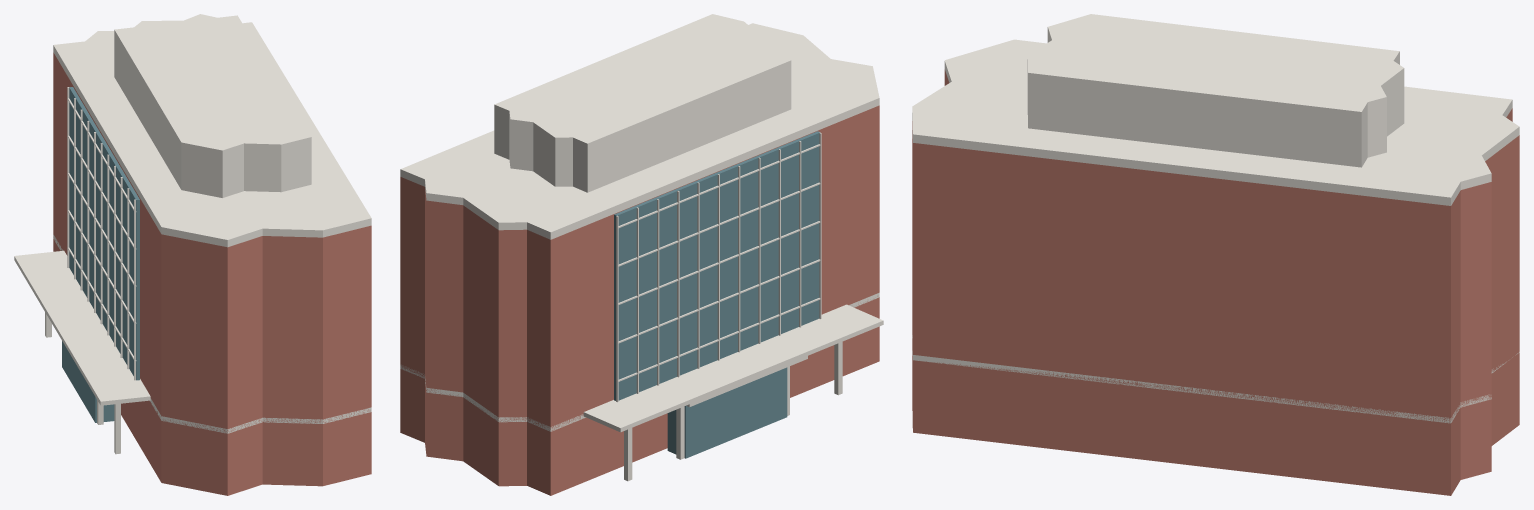
File: yip.glb
The picture shows the model from 3 angles, left to right: view 1: azimuth 30°, elevation 25°; view 2: azimuth 150°, elevation 25°; view 3: azimuth 270°, elevation 25°; orthographic projection. The views are drawn at different scales.
Parts seen in each view (by area): view 1: YKC_tower, YKC_roof_slab, YKC_roof, YKC_podium, YKC_curtain, YKC_penthouse, YKC_col_canopy, YKC_band, YKC_atrium, YKC_cw_mull_5, YKC_cw_mull_8, YKC_cw_mull_2 (+4 smaller); view 2: YKC_tower, YKC_curtain, YKC_roof_slab, YKC_roof, YKC_podium, YKC_penthouse, YKC_col_canopy, YKC_atrium, YKC_band, YKC_cw_mull_0, YKC_cw_transom_4, YKC_cw_transom_2 (+13 smaller); view 3: YKC_tower, YKC_podium, YKC_roof_slab, YKC_roof, YKC_penthouse, YKC_band.
Boxes of the visible parts, x1=… form: YKC_tower: x1=53, y1=52, x2=371, y2=433; YKC_roof_slab: x1=53, y1=22, x2=371, y2=247; YKC_roof: x1=114, y1=14, x2=311, y2=155; YKC_podium: x1=53, y1=239, x2=371, y2=495; YKC_curtain: x1=69, y1=87, x2=139, y2=380; YKC_penthouse: x1=114, y1=35, x2=311, y2=197; YKC_col_canopy: x1=14, y1=250, x2=150, y2=405; YKC_band: x1=53, y1=235, x2=371, y2=433; YKC_atrium: x1=62, y1=341, x2=114, y2=422; YKC_cw_mull_5: x1=100, y1=143, x2=102, y2=324; YKC_cw_mull_8: x1=120, y1=177, x2=122, y2=357; YKC_cw_mull_2: x1=80, y1=109, x2=82, y2=290; YKC_tower: x1=400, y1=105, x2=879, y2=431; YKC_curtain: x1=614, y1=131, x2=820, y2=400; YKC_roof_slab: x1=400, y1=23, x2=879, y2=239; YKC_roof: x1=494, y1=14, x2=791, y2=148; YKC_podium: x1=400, y1=297, x2=879, y2=495; YKC_penthouse: x1=494, y1=66, x2=791, y2=192; YKC_col_canopy: x1=583, y1=304, x2=883, y2=432; YKC_atrium: x1=667, y1=367, x2=787, y2=458; YKC_band: x1=400, y1=292, x2=879, y2=431; YKC_cw_mull_0: x1=616, y1=215, x2=618, y2=402; YKC_cw_transom_4: x1=618, y1=144, x2=820, y2=227; YKC_cw_transom_2: x1=618, y1=221, x2=820, y2=304; YKC_tower: x1=912, y1=69, x2=1519, y2=422; YKC_podium: x1=912, y1=338, x2=1519, y2=495; YKC_roof_slab: x1=912, y1=39, x2=1519, y2=205; YKC_roof: x1=1027, y1=14, x2=1404, y2=117; YKC_penthouse: x1=1027, y1=33, x2=1404, y2=167; YKC_band: x1=912, y1=335, x2=1519, y2=423.
Size of the model in its own units: 31.33 by 29.3 by 45.56.
